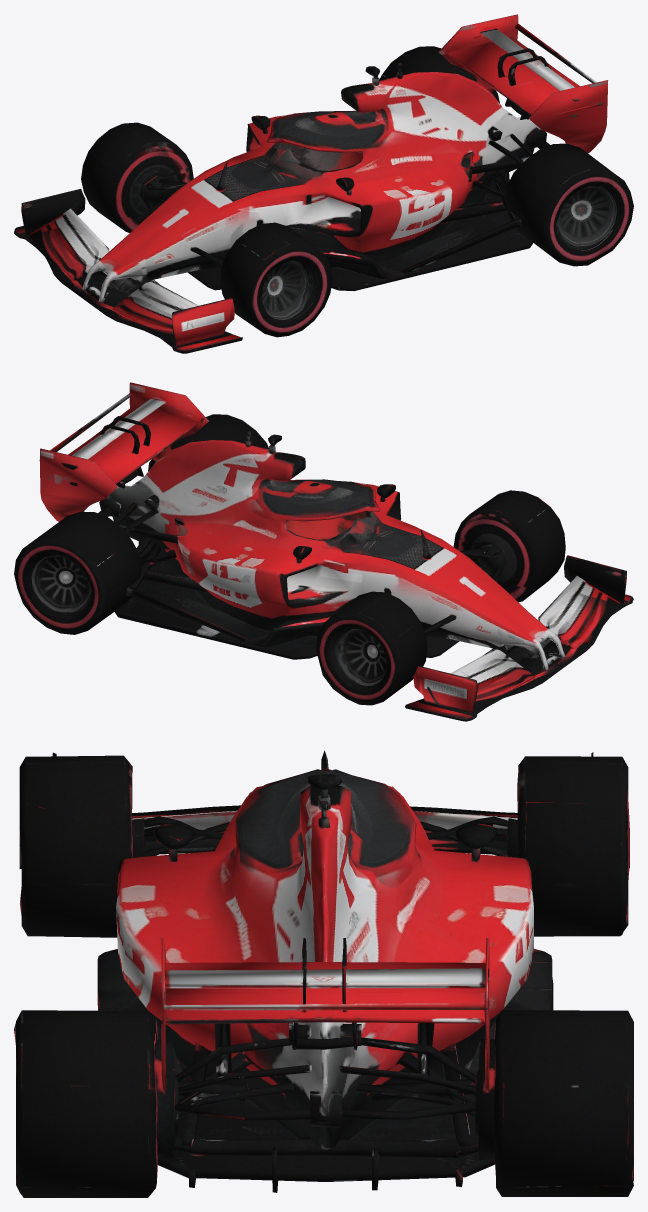
Rendered from formula_tex.fbx.
The picture shows the model from 3 angles, top to bottom: view 1: azimuth 30°, elevation 25°; view 2: azimuth 150°, elevation 25°; view 3: azimuth 270°, elevation 25°; orthographic projection. The views are drawn at different scales.
Parts seen in each view (by area): view 1: Mesh_0; view 2: Mesh_0; view 3: Mesh_0.
Part boxes in pixels (x1,y1,x2,y2): Mesh_0: [14, 14, 633, 353]; Mesh_0: [14, 382, 633, 721]; Mesh_0: [14, 750, 633, 1197].
Size of the model in its own units: 100 by 33.5 by 62.3.
1 material, 1 textured.
